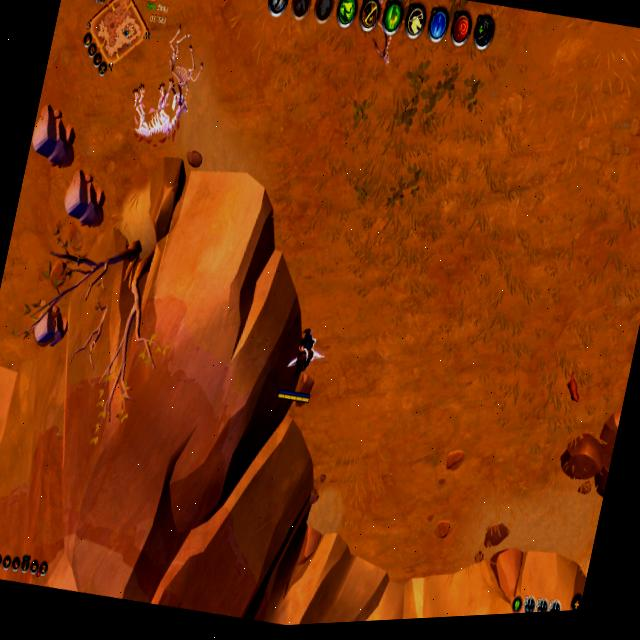red: (275, 324, 327, 411)
